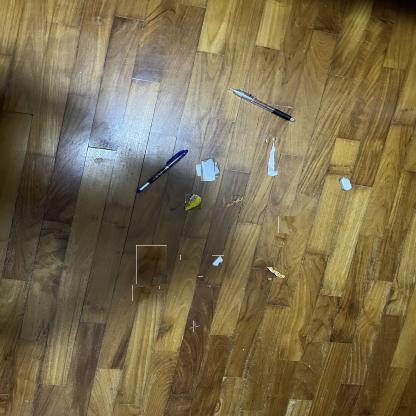dirty: (266, 136, 278, 176), (199, 160, 218, 179), (185, 194, 201, 210), (223, 195, 244, 207), (267, 268, 285, 280), (212, 255, 224, 266)
liquid: (136, 245, 167, 284), (278, 216, 297, 234), (132, 285, 151, 301), (276, 234, 288, 246), (180, 254, 189, 260), (198, 276, 204, 281), (160, 285, 165, 290)
mark: (191, 323, 198, 330)
